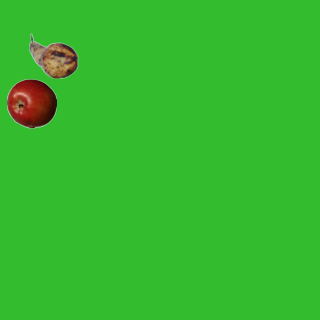Apple Braeburn: (6, 78, 56, 128)
Pear Abate: (28, 31, 78, 81)
